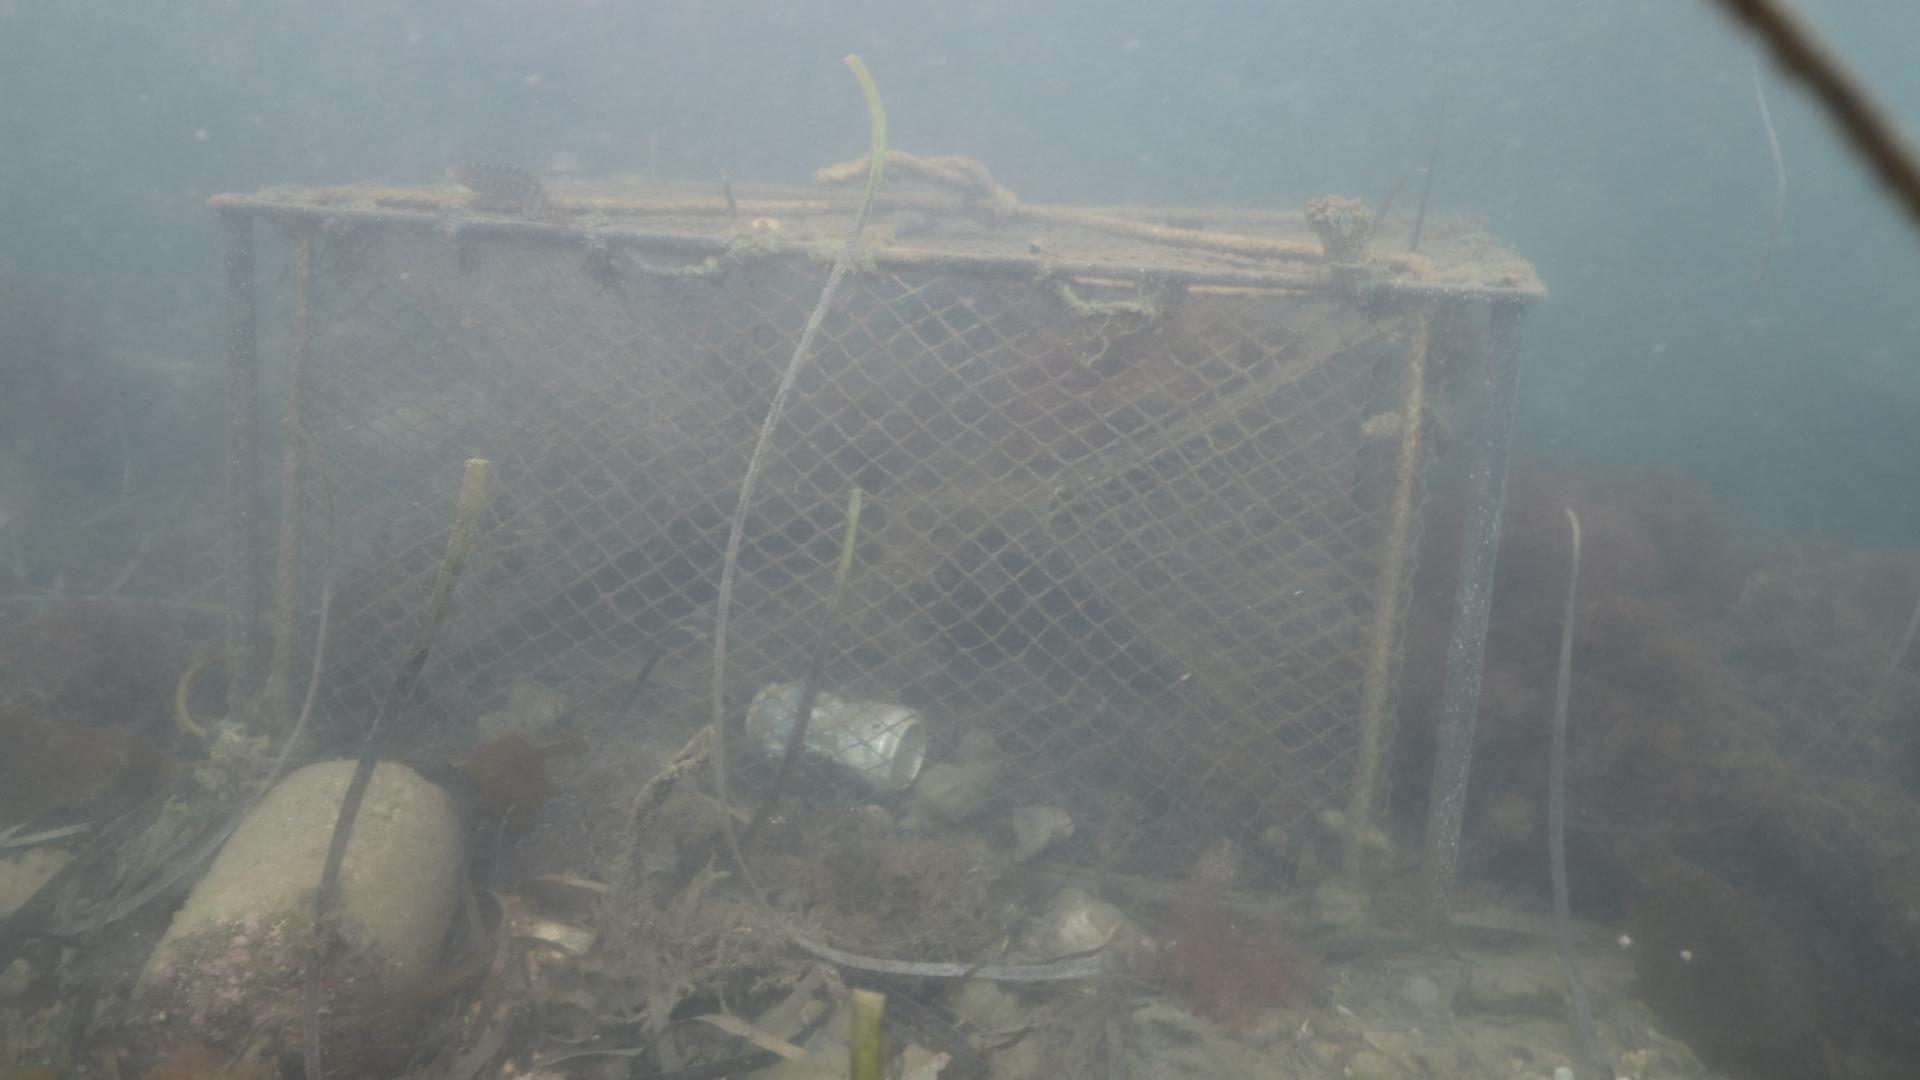rectangular fish trap: (200, 178, 1552, 961)
